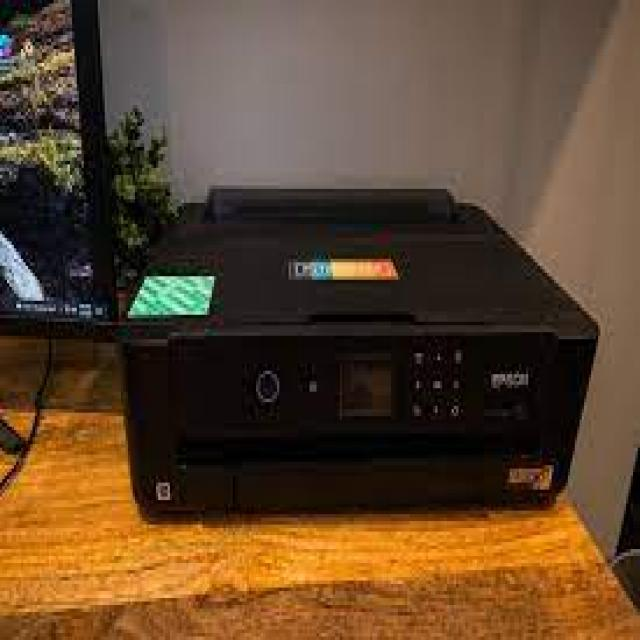printer: (98, 163, 618, 556)
